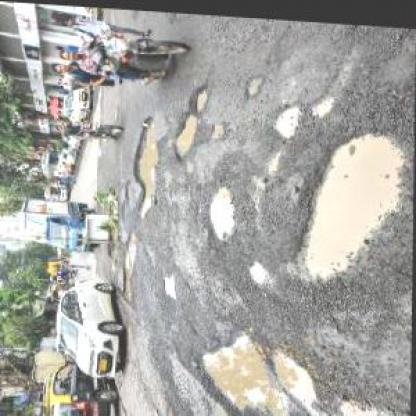pothole: (292, 121, 405, 282), (195, 324, 319, 414), (129, 112, 161, 218), (204, 182, 238, 237), (171, 110, 198, 158), (121, 228, 138, 298), (270, 99, 301, 133), (309, 87, 334, 114), (188, 83, 210, 110), (242, 70, 266, 94), (161, 272, 179, 298), (248, 255, 265, 282), (209, 118, 224, 137)
